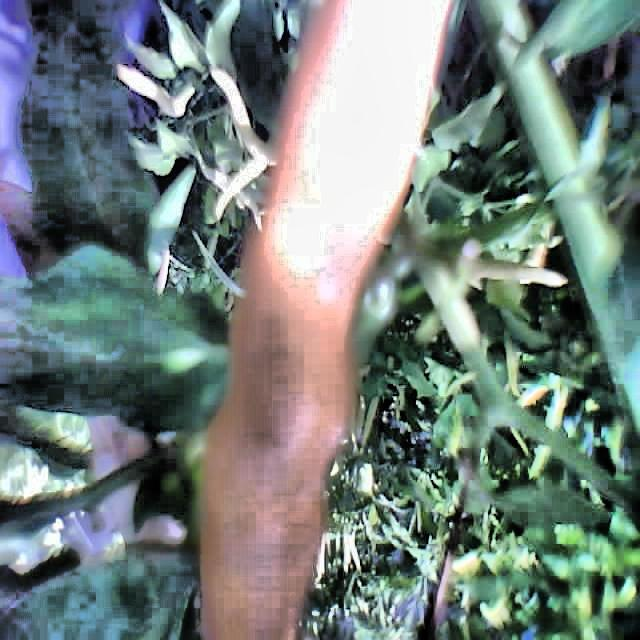Cabai: (192, 1, 422, 640)
